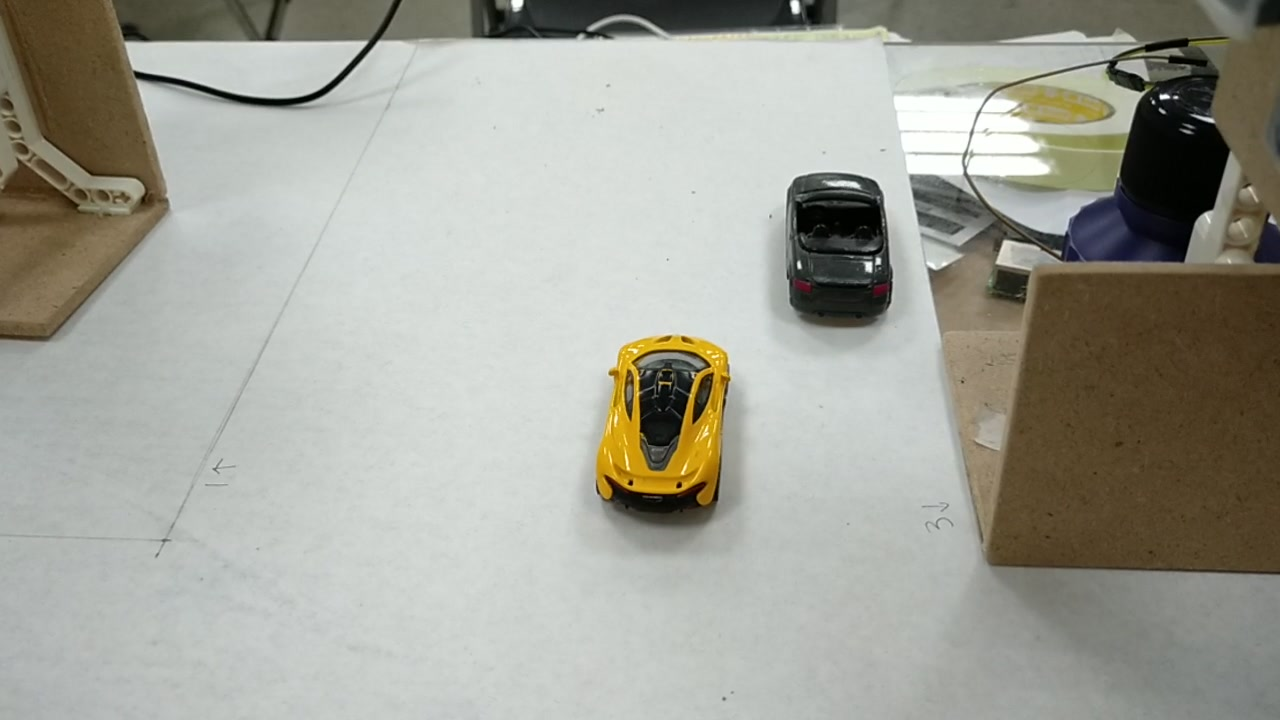car: (597, 336, 735, 496), (790, 175, 884, 315)
